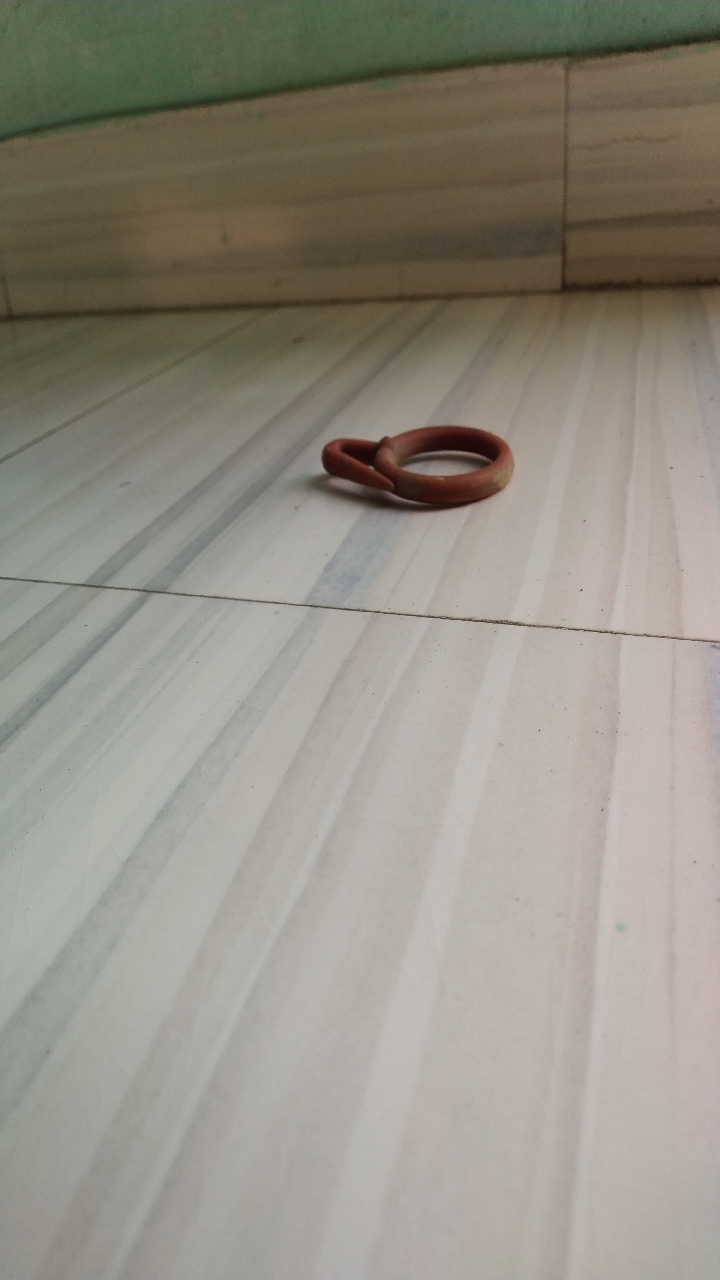garments: (314, 411, 528, 523)
